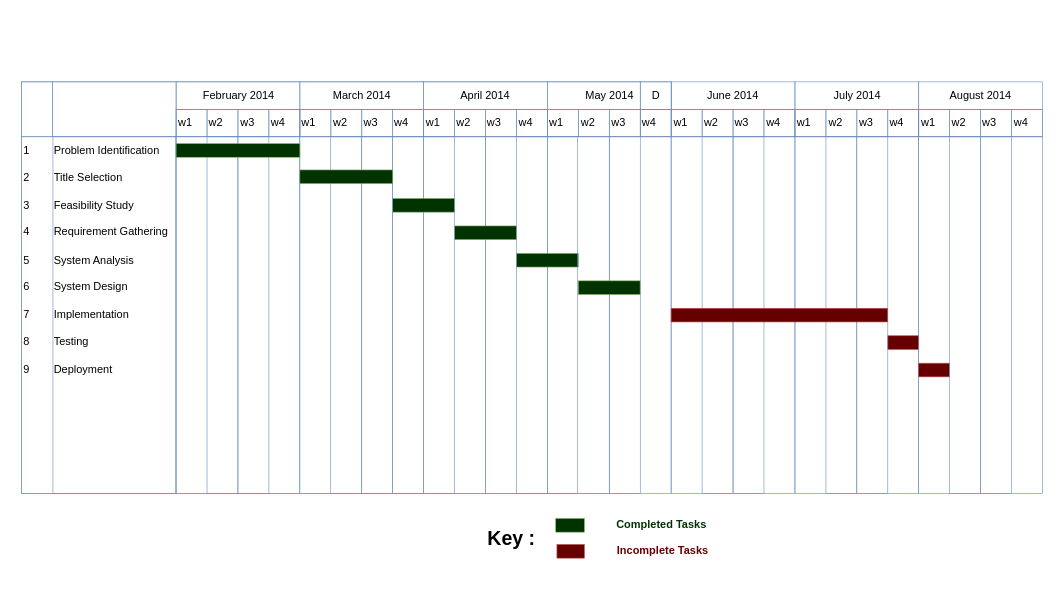
Some shapes in this 1064 by 589 pixel diagram are drawn without their labels. Each missing label, with the centre of its shape:
Activities: (113,109)
No.: (36,109)
